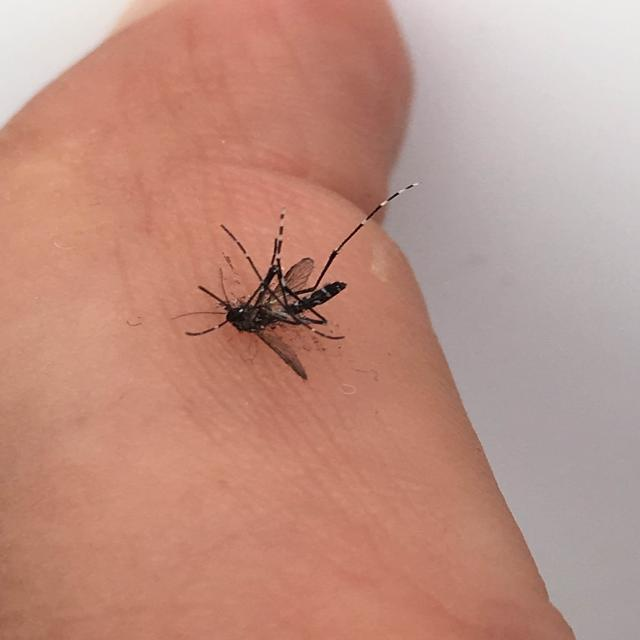albopictus: (165, 178, 429, 378)
